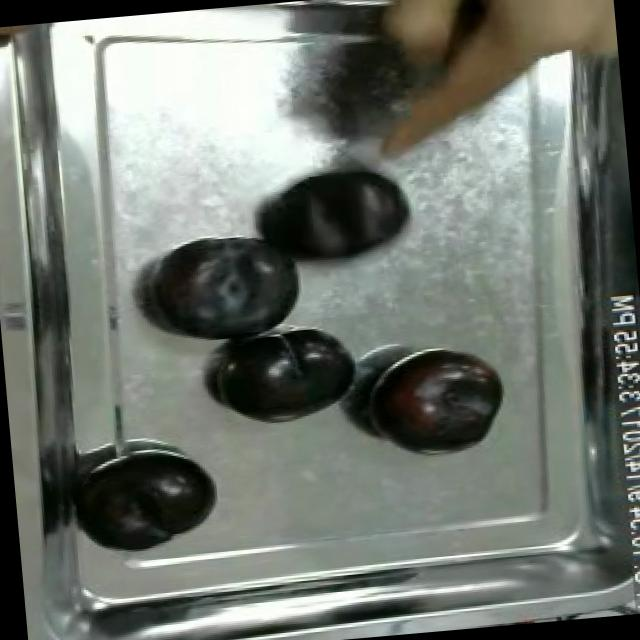Fruit: (142, 222, 318, 352), (250, 154, 420, 278), (65, 438, 223, 562), (204, 322, 368, 436), (362, 342, 510, 460)
